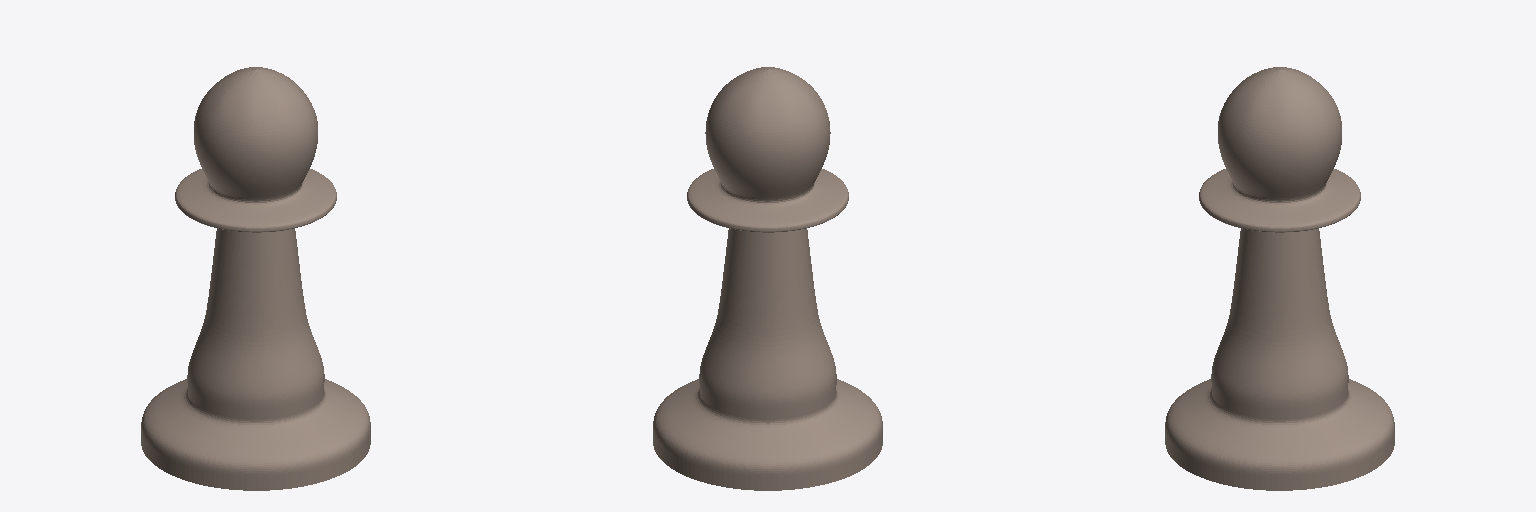
The model's file is pawn.obj.
3 views of the same model, side by side, from view 1: azimuth 30°, elevation 25°; view 2: azimuth 150°, elevation 25°; view 3: azimuth 270°, elevation 25° (orthographic).
Parts seen in each view (by area): view 1: Pawn_Mesh; view 2: Pawn_Mesh; view 3: Pawn_Mesh.
Boxes of the visible parts, box(x1,y1,x2,y2) form: Pawn_Mesh: box(141, 67, 370, 490); Pawn_Mesh: box(653, 67, 882, 490); Pawn_Mesh: box(1165, 67, 1394, 490).
Bounding box in the file's own units: 1.99 × 3.57 × 1.99.